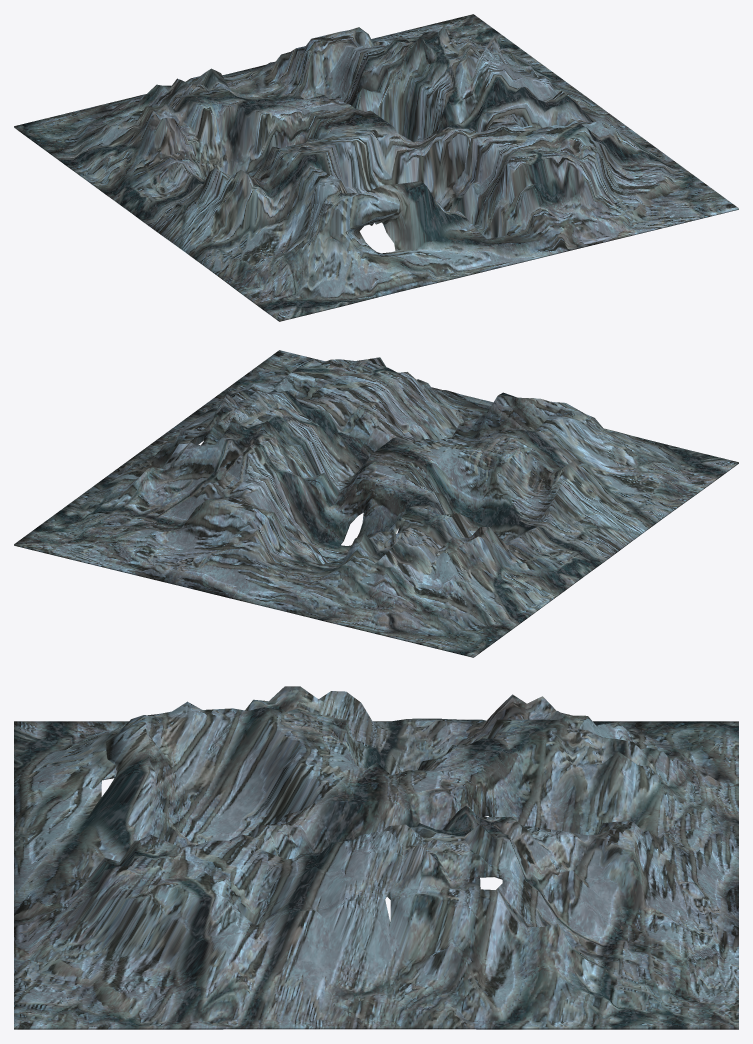
The model's file is Cave2.fbx.
The picture shows the model from 3 angles, top to bottom: view 1: azimuth 30°, elevation 25°; view 2: azimuth 150°, elevation 25°; view 3: azimuth 270°, elevation 25°; orthographic projection. The views are drawn at different scales.
Parts seen in each view (by area): view 1: Landscape_001; view 2: Landscape_001; view 3: Landscape_001.
Part boxes in pixels (<box>): Landscape_001: <box>14,14,738,321</box>; Landscape_001: <box>14,350,738,657</box>; Landscape_001: <box>14,686,738,1029</box>.
Size of the model in its own units: 35 by 7.76 by 35.
1 material, 1 textured.
